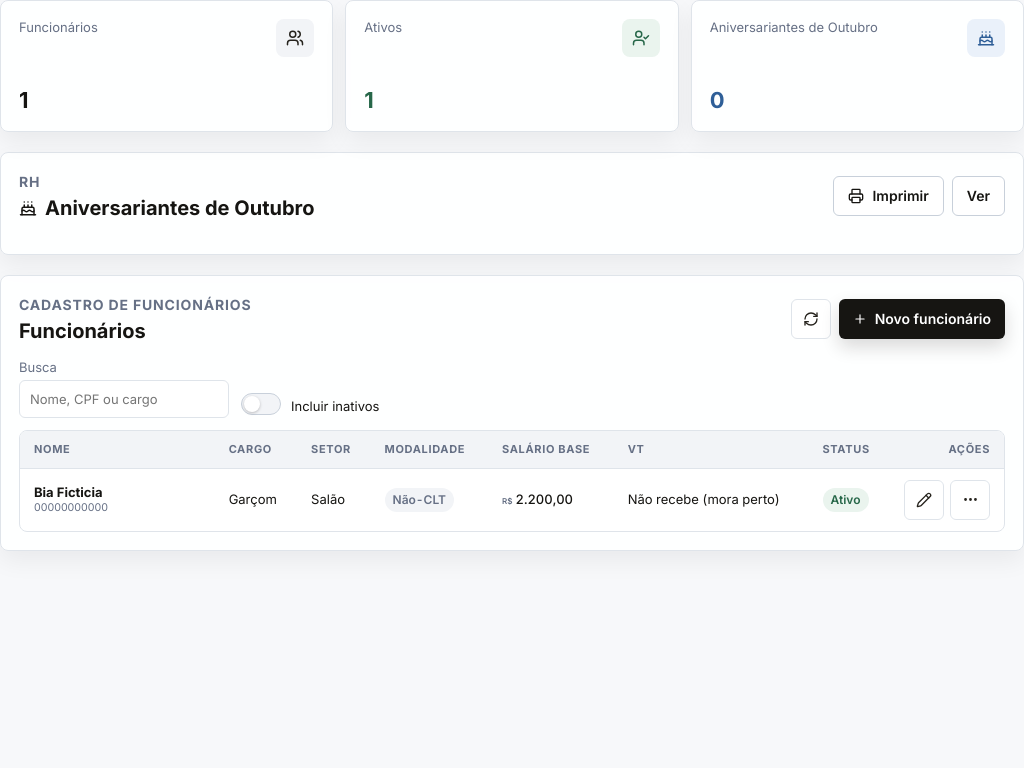
it: ficha: Entra na gorjeta em › campo de data com o texto de ajuda, vazio para quem está em teste
The image size is (1024, 768).
Click the button named "Editar". click: (924, 500)
box: x1=904 y1=480 x2=944 y2=520
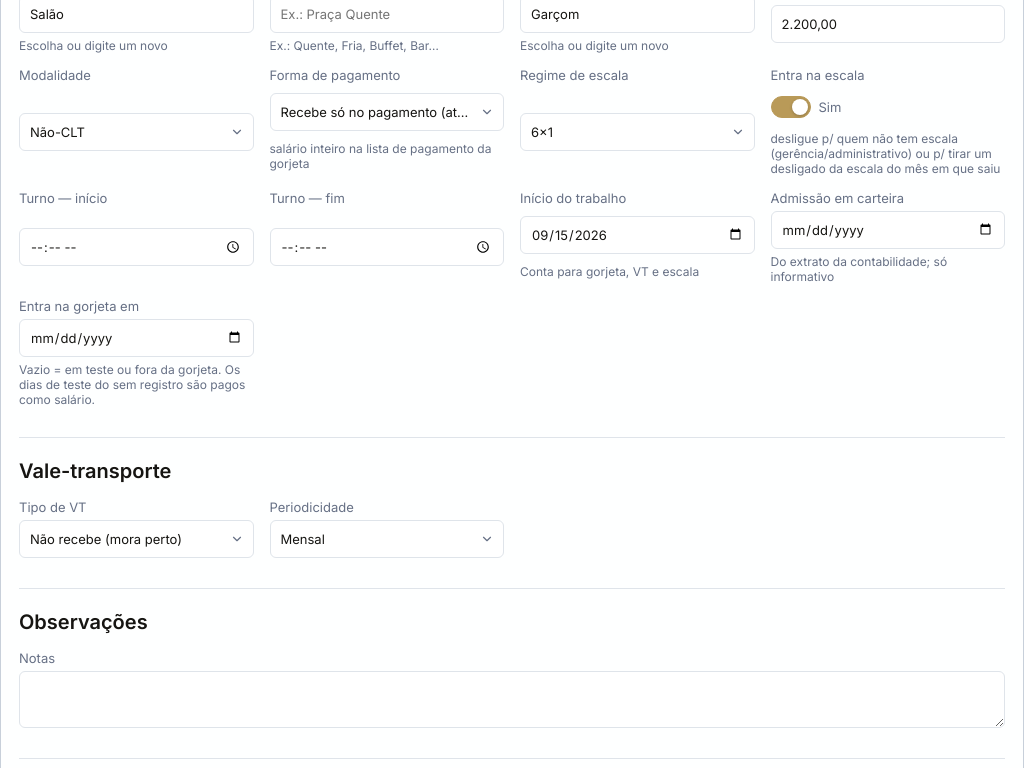
Result: the date field labelled "Entra na gorjeta em" is empty at x1=19 y1=318 x2=254 y2=356
Result: the text "Vazio = em teste ou fora da gorjeta. Os dias de teste do sem registro são pagos como salário." is shown at x1=19 y1=362 x2=245 y2=406
